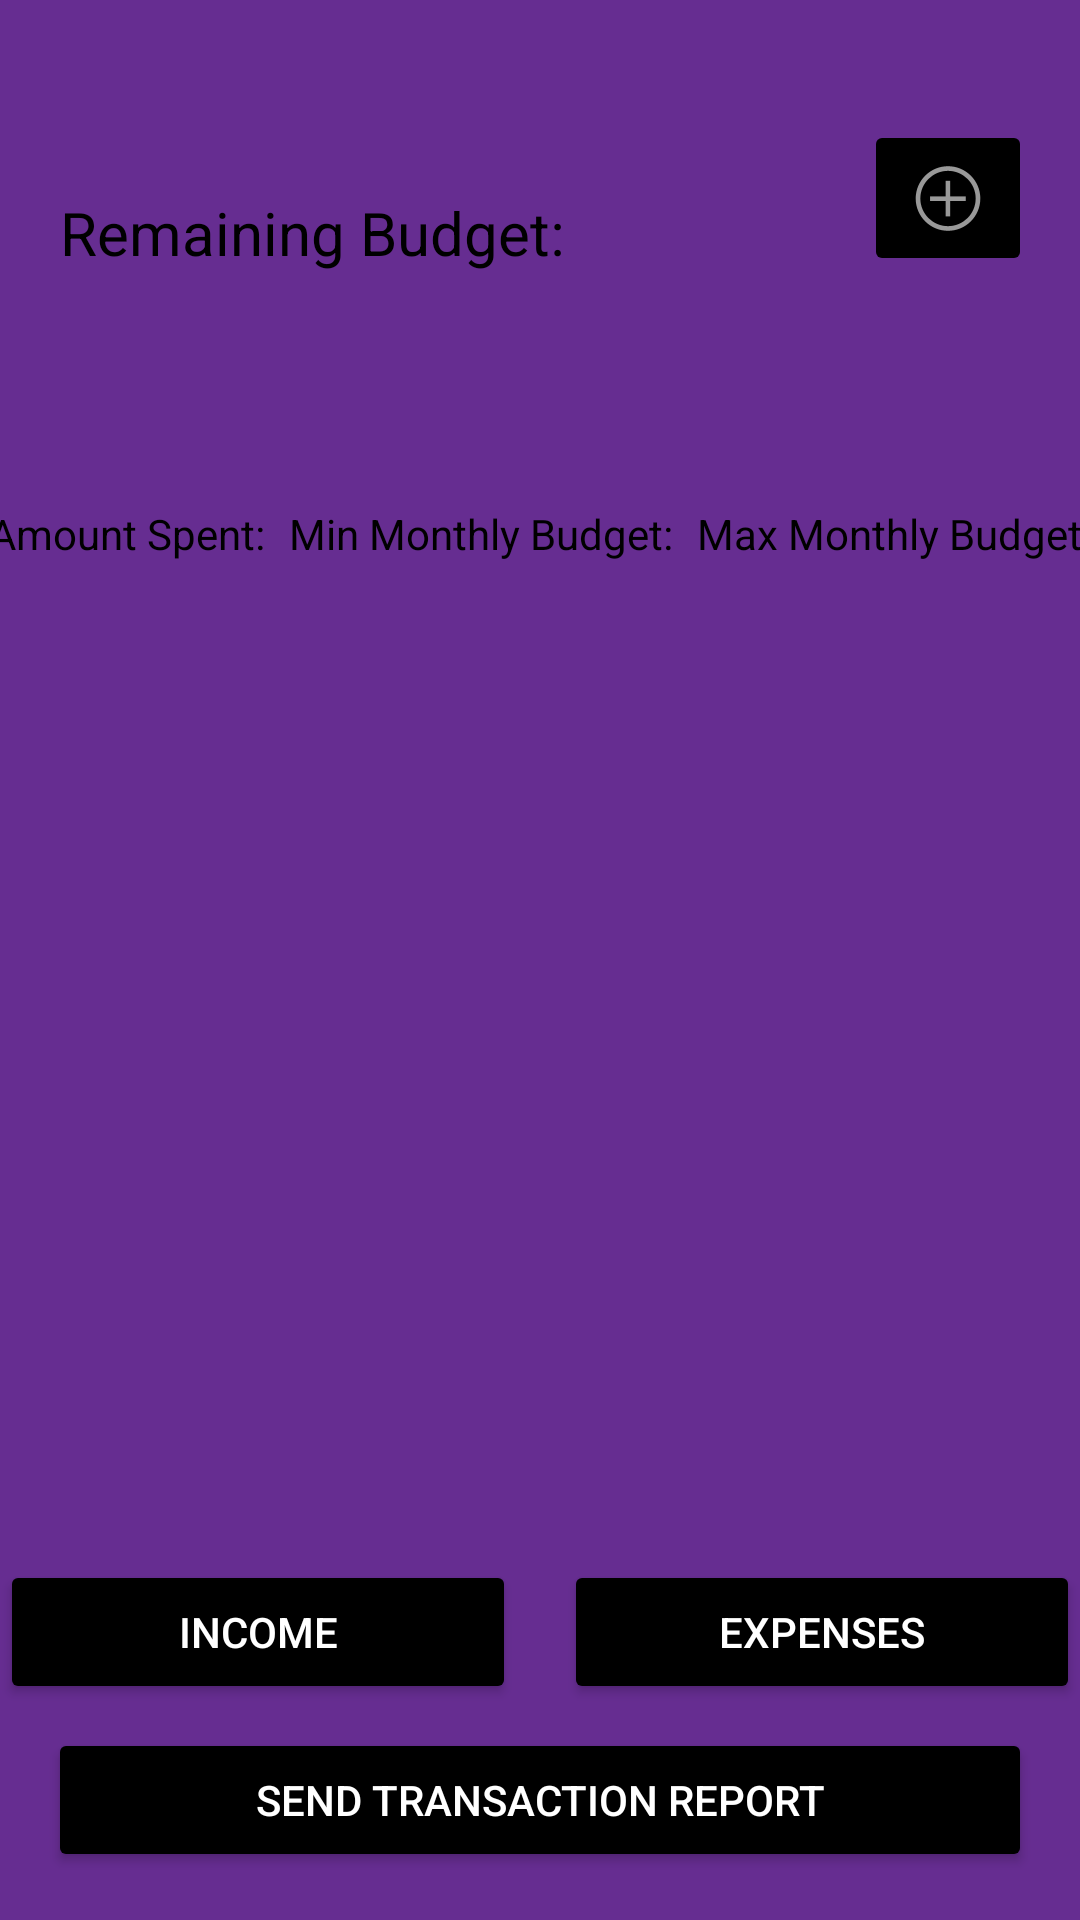

Icons on this 1080×1920 Android screen, each with the point to tap as (x,y):
Create Category: (948,198)
